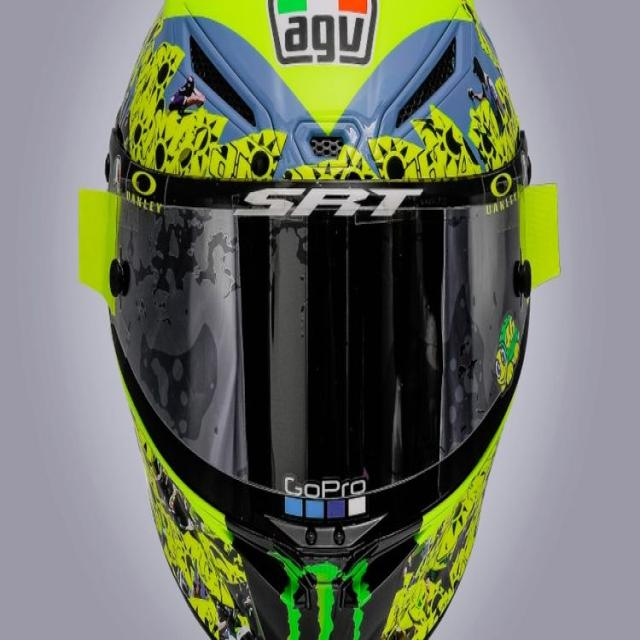Helm: (75, 0, 562, 639)
